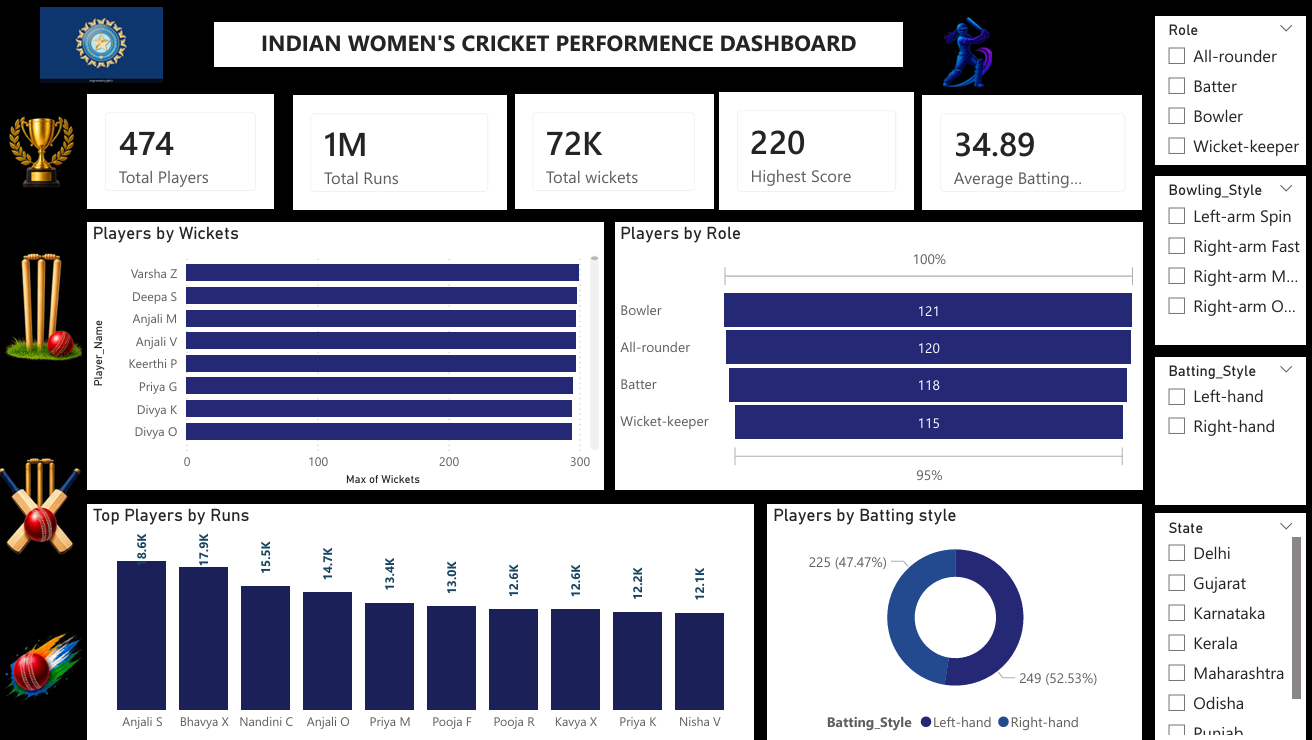

The page's visual inventory and layout, read from the dashboard file:
{"tool":"powerbi","page":{"name":"Page 1","canvas":[1280,720],"ordinal":0},"visuals":[{"type":"clusteredBarChart","title":"Players by Wickets","fields":{"Category":["player dataset2.Player_Name"],"Y":["Max(player dataset2.Wickets)"]},"box":[89.3,216,499.5,259.4],"z":0},{"type":"donutChart","title":"Players by Batting style","fields":{"Category":["player dataset2.Batting_Style"],"Y":["CountNonNull(player dataset2.Player_ID)"]},"box":[748,488.6,363.1,229.2],"z":1000},{"type":"clusteredColumnChart","title":"Top Players by Runs","fields":{"Category":["player dataset2.Player_Name"],"Y":["Sum(player dataset2.Runs)"]},"box":[89.3,488.6,645.4,229.2],"z":2000},{"type":"cardVisual","fields":{"Data":["Sum(player dataset2.Runs)"]},"box":[288.3,92.9,206.3,111],"z":3000},{"type":"cardVisual","fields":{"Data":["Sum(player dataset2.Wickets)"]},"box":[503.1,91.7,191.8,111],"z":4000},{"type":"cardVisual","fields":{"Data":["Avg(player dataset2.Batting_Average)"]},"box":[897.6,92.9,213.5,111],"z":5000},{"type":"slicer","fields":{"Values":["player dataset2.Role"]},"box":[1123.2,15.7,146,144.8],"z":6000},{"type":"slicer","fields":{"Values":["player dataset2.State"]},"box":[1123.2,498.3,146,219.6],"z":7000},{"type":"slicer","fields":{"Values":["player dataset2.Bowling_Style"]},"box":[1123.2,171.3,146,162.9],"z":8000},{"type":"slicer","fields":{"Values":["player dataset2.Batting_Style"]},"box":[1123.2,346.2,146,142.4],"z":9000},{"type":"cardVisual","fields":{"Data":["CountNonNull(player dataset2.Player_Name)"]},"box":[89.3,91.7,181,111],"z":10000},{"type":"textbox","box":[212.3,21.7,667.2,43.4],"z":11000},{"type":"image","box":[0,7.2,203.9,72.4],"z":12000},{"type":"funnel","title":"Players by Role","fields":{"Category":["player dataset2.Role"],"Y":["CountNonNull(player dataset2.Player_Name)"]},"box":[599.6,216,511.5,259.4],"z":13000},{"type":"cardVisual","fields":{"Data":["Max(player dataset2.Highest_Score)"]},"box":[700.9,90.5,188.2,113.4],"z":14000},{"type":"image","box":[855.4,15.7,170.1,72.4],"z":15000},{"type":"image","box":[8.4,61.5,71.2,170.1],"z":16000},{"type":"image","box":[0,231.6,89.3,127.9],"z":17000},{"type":"image","box":[4.8,574.3,79.6,146],"z":18000},{"type":"image","box":[0,365.6,84.5,246.1],"z":19000}]}

Visuals, with their boxes in screenshot pixels (x1, y1, x2, y2), scaled from the page's 1280x720 canvas onto the 1312x740 screenshot:
"Players by Wickets" clusteredBarChart: (x1=92, y1=222, x2=604, y2=489)
"Players by Batting style" donutChart: (x1=767, y1=502, x2=1139, y2=738)
"Top Players by Runs" clusteredColumnChart: (x1=92, y1=502, x2=753, y2=738)
cardVisual - Sum(player dataset2.Runs): (x1=296, y1=95, x2=507, y2=210)
cardVisual - Sum(player dataset2.Wickets): (x1=516, y1=94, x2=712, y2=208)
cardVisual - Avg(player dataset2.Batting_Average): (x1=920, y1=95, x2=1139, y2=210)
slicer - player dataset2.Role: (x1=1151, y1=16, x2=1301, y2=165)
slicer - player dataset2.State: (x1=1151, y1=512, x2=1301, y2=738)
slicer - player dataset2.Bowling_Style: (x1=1151, y1=176, x2=1301, y2=343)
slicer - player dataset2.Batting_Style: (x1=1151, y1=356, x2=1301, y2=502)
cardVisual - CountNonNull(player dataset2.Player_Name): (x1=92, y1=94, x2=277, y2=208)
textbox: (x1=218, y1=22, x2=901, y2=67)
image: (x1=0, y1=7, x2=209, y2=82)
"Players by Role" funnel: (x1=615, y1=222, x2=1139, y2=489)
cardVisual - Max(player dataset2.Highest_Score): (x1=718, y1=93, x2=911, y2=210)
image: (x1=877, y1=16, x2=1051, y2=91)
image: (x1=9, y1=63, x2=82, y2=238)
image: (x1=0, y1=238, x2=92, y2=369)
image: (x1=5, y1=590, x2=87, y2=739)
image: (x1=0, y1=376, x2=87, y2=629)
